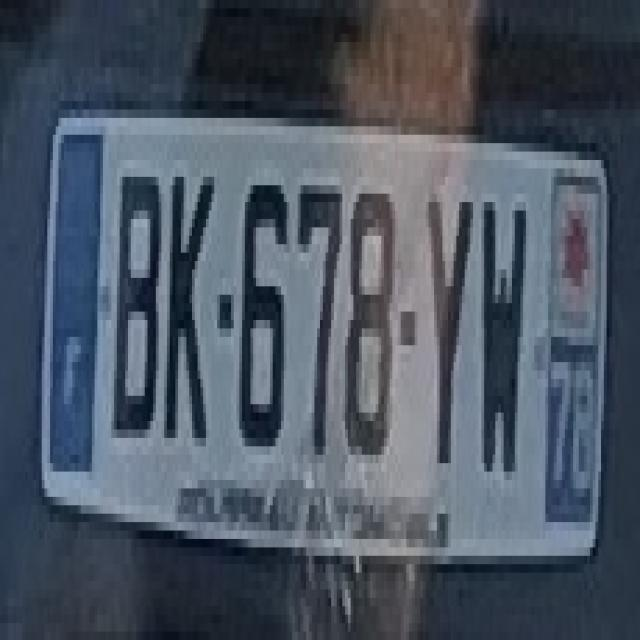EU: (42, 115, 603, 570)
France: (54, 126, 98, 482)
